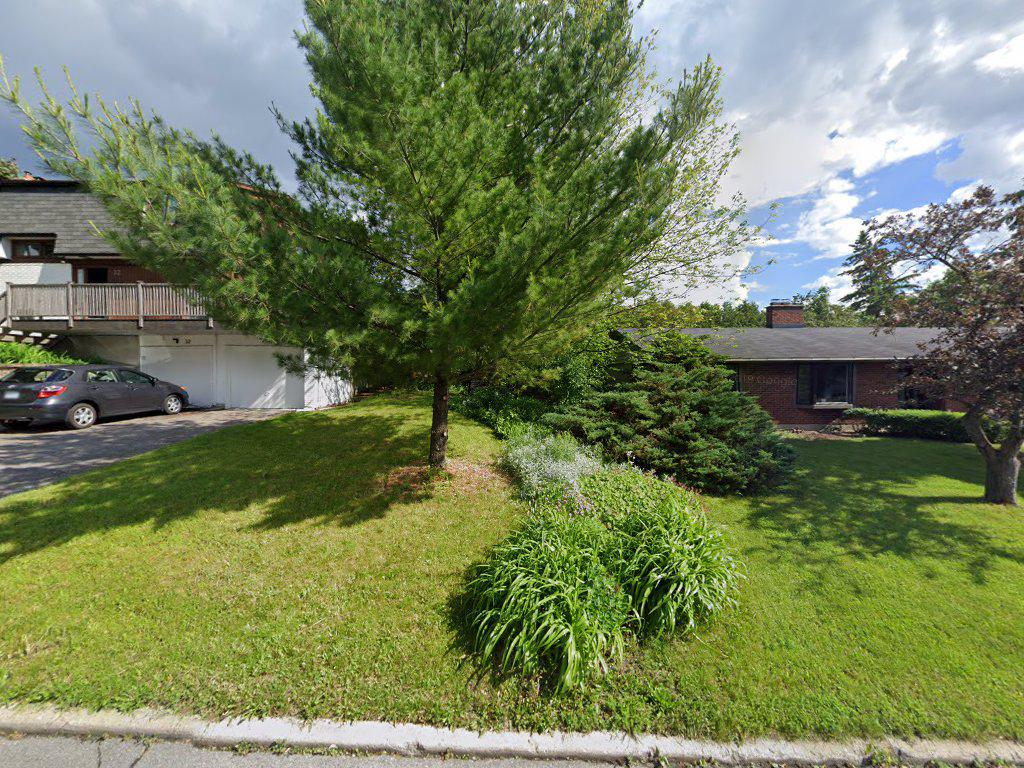trunk: (972, 412, 1024, 512), (429, 369, 452, 477)
